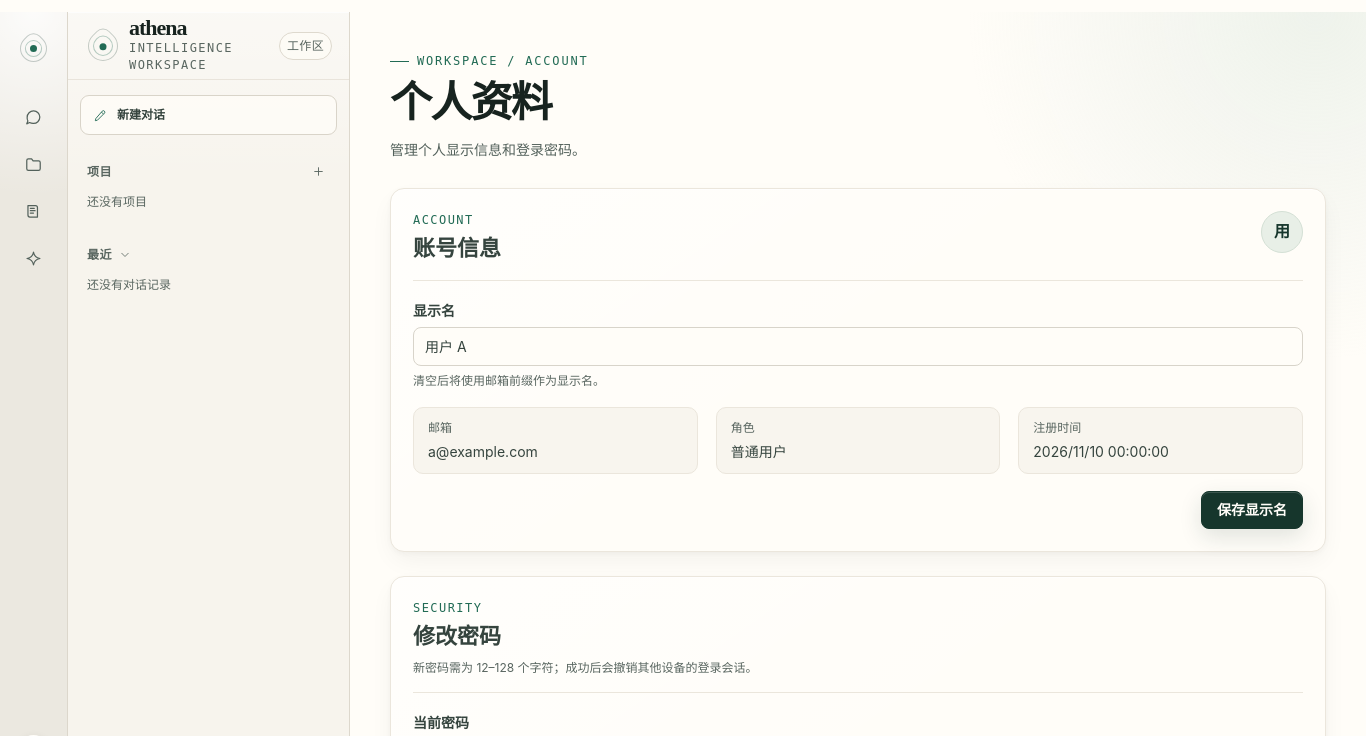
Scenario: 认证身份缓存隔离 › 显示名保存不取消权限复核，旧资料与PATCH响应都不能覆盖新的/me
The width and height of the screenshot is (1366, 736).
Replace the text in the field labelled "显示名 清空后将使用邮箱前缀作为显示名。" with "新显示名": (858, 346) [413, 327, 1303, 366]
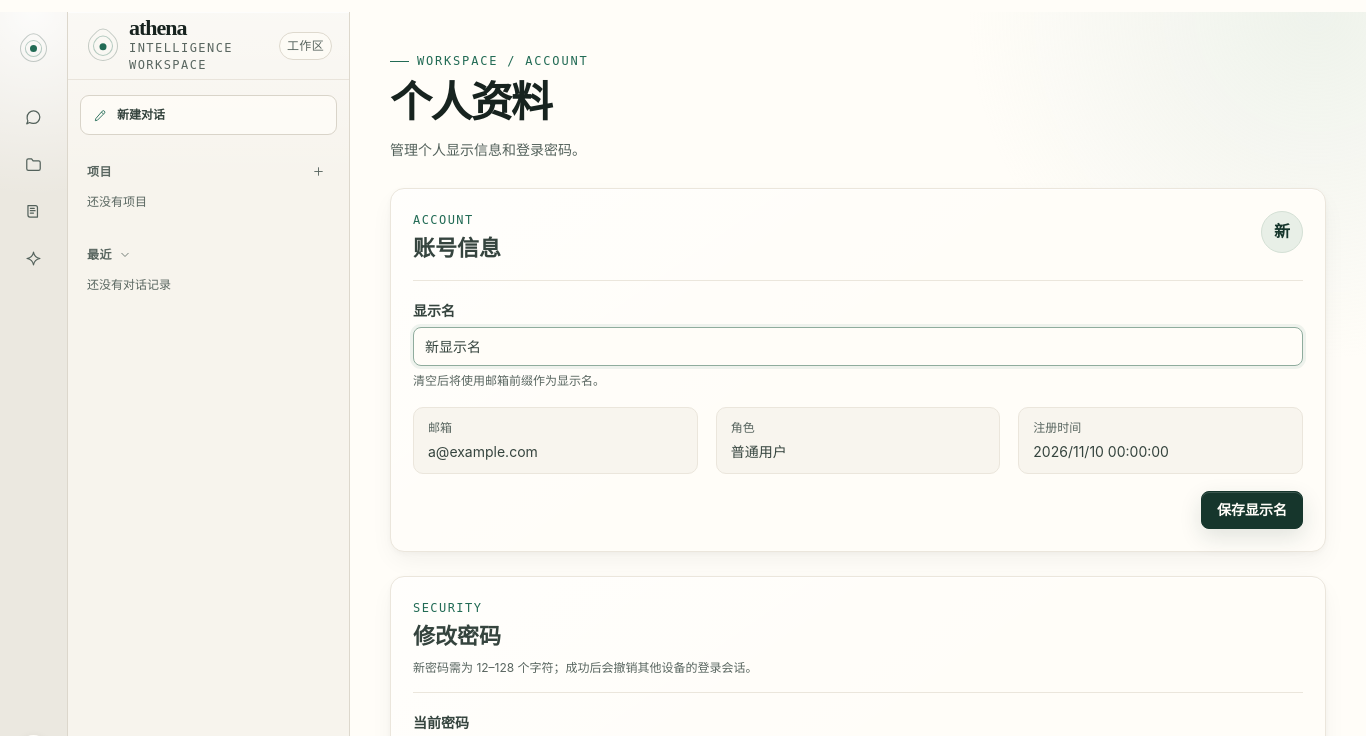
Click the button "保存显示名": (1252, 510) [1201, 491, 1303, 529]
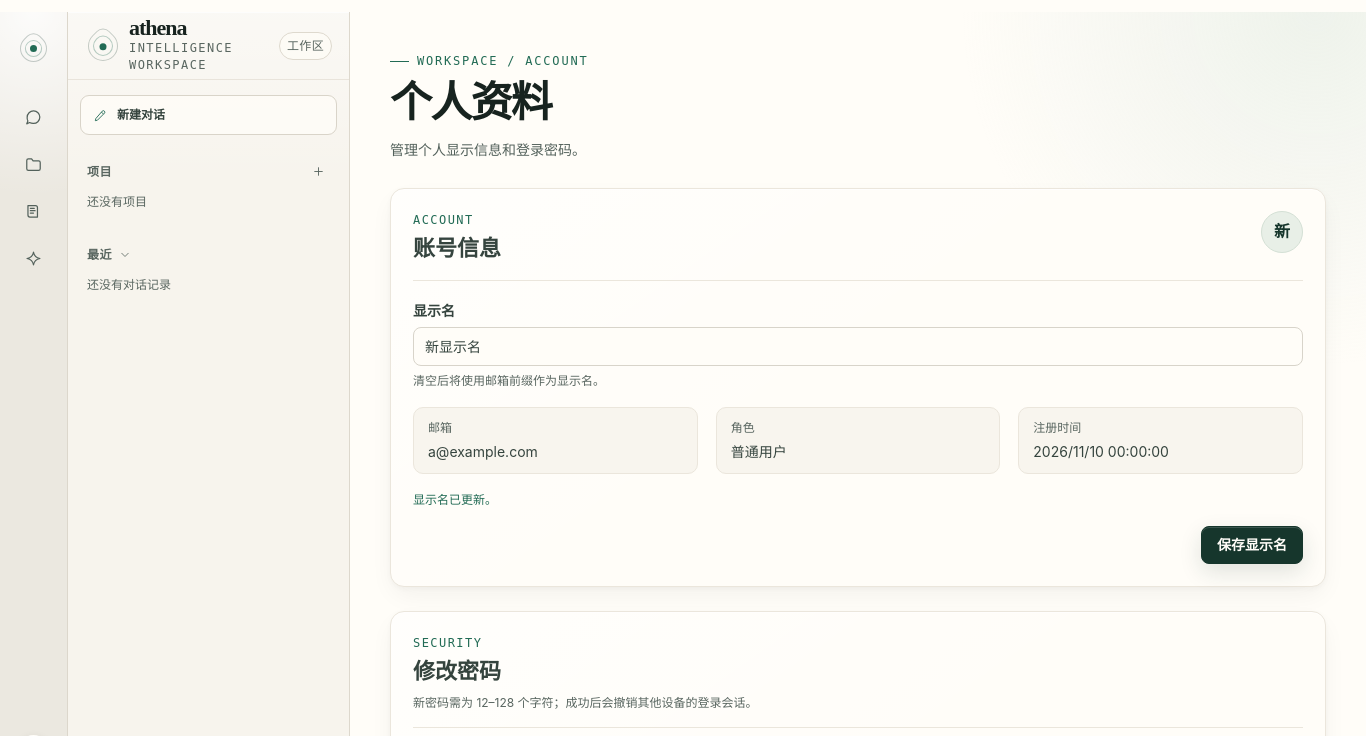
Now the text "显示名已更新。" is shown, box [413, 492, 497, 507]
